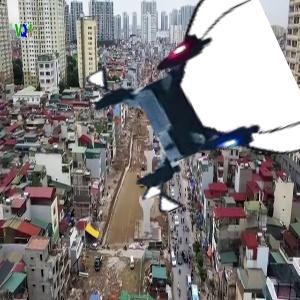drone: (94, 4, 298, 208)
